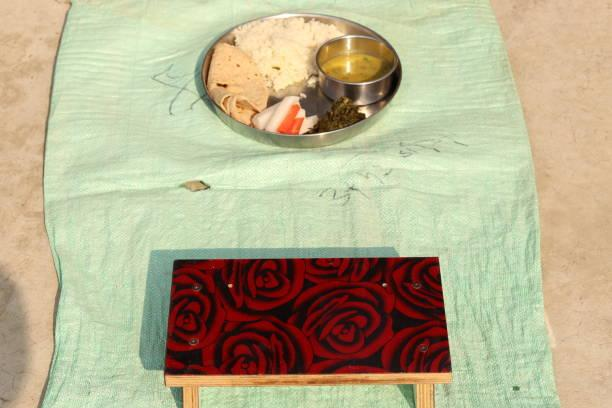daal: (327, 48, 386, 86)
rice: (256, 20, 328, 74)
roti phulka: (209, 36, 261, 123)
salad: (259, 104, 316, 140)
